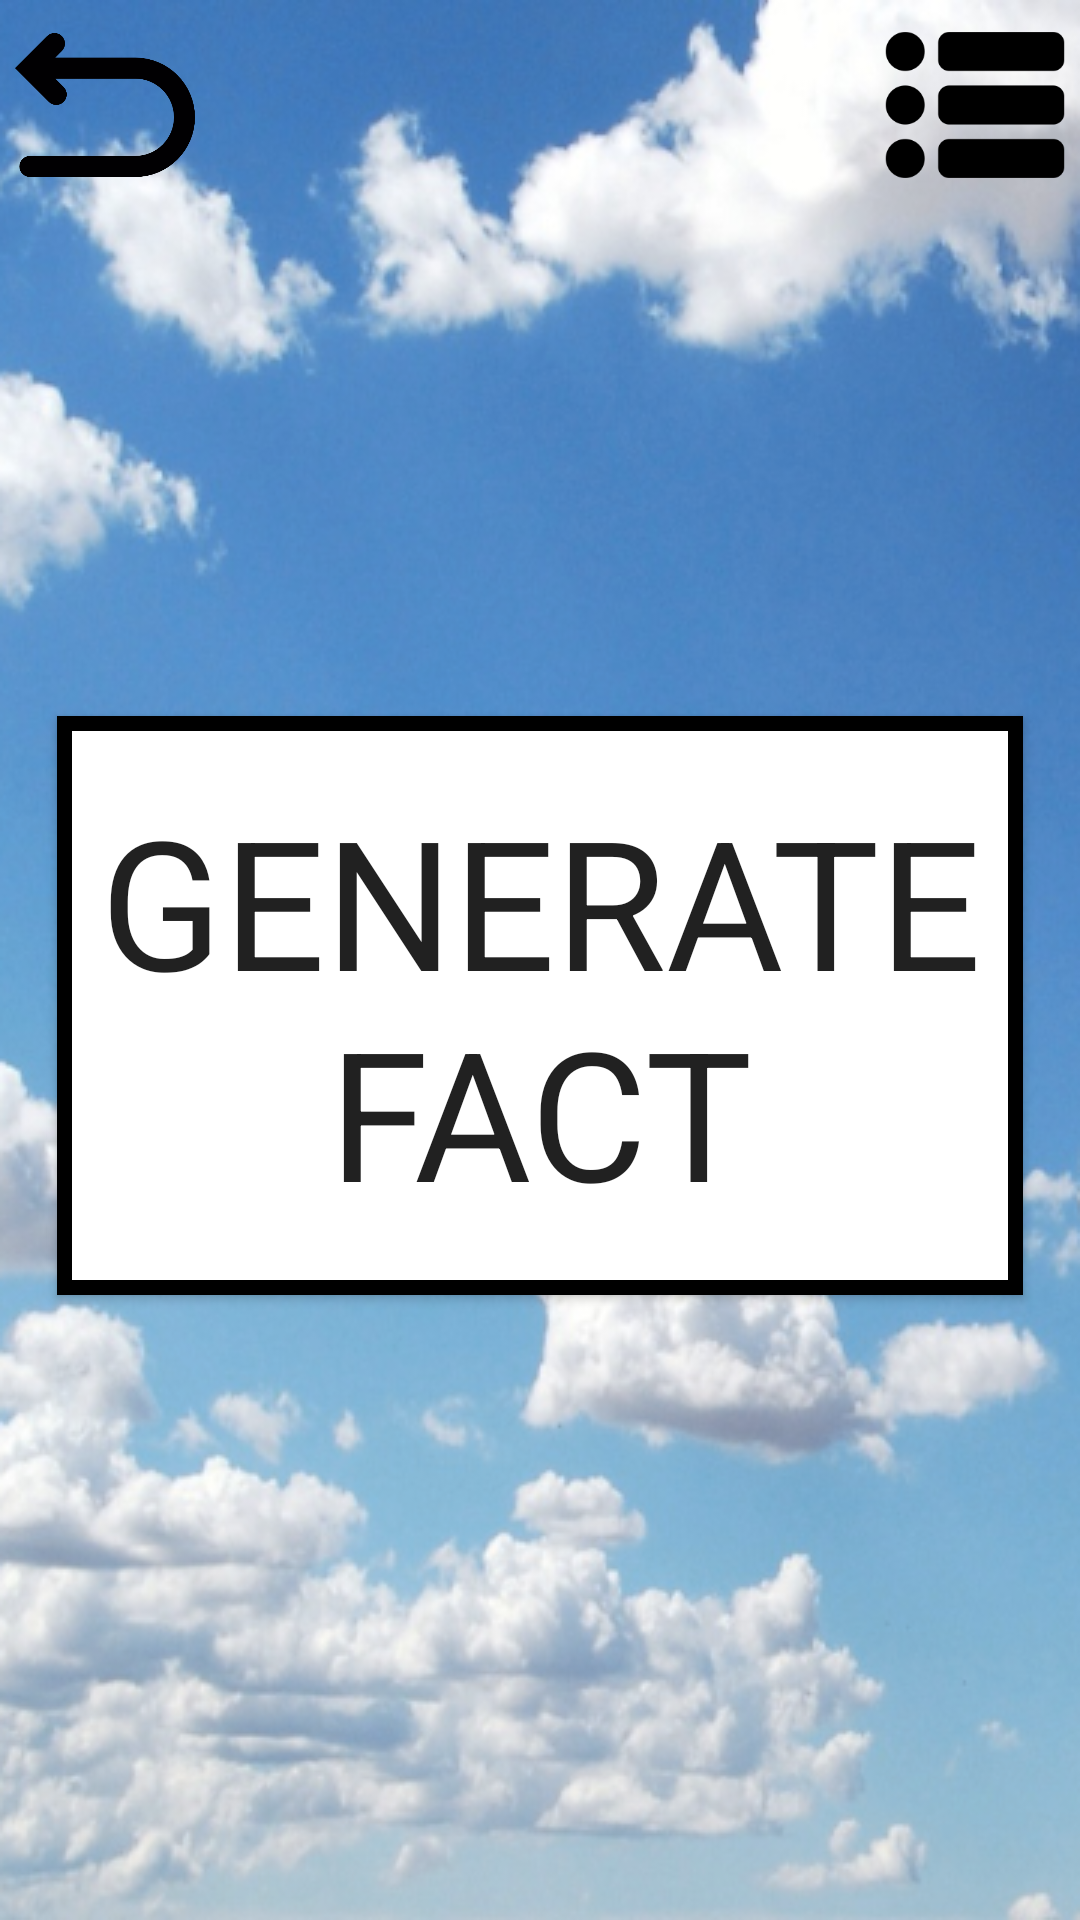

Named icons in this screenshot (1080x1920) and their centers, (x,y):
Menu button: (975,105)
Return button image: (105,114)
